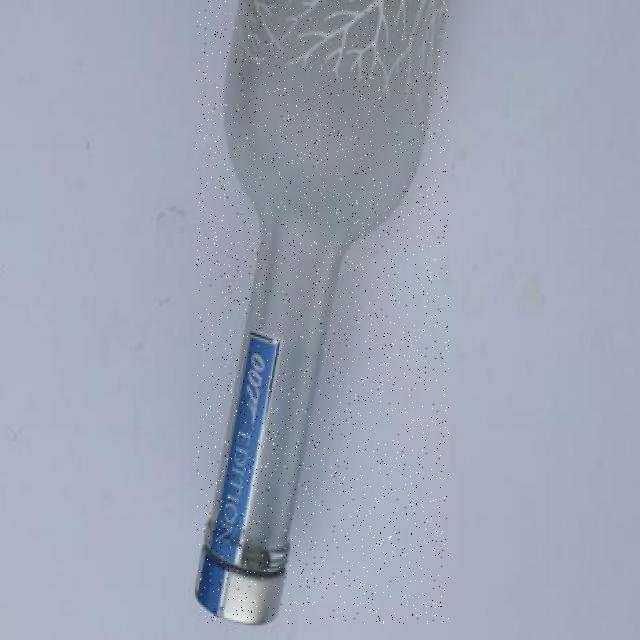glass: (197, 0, 449, 624)
